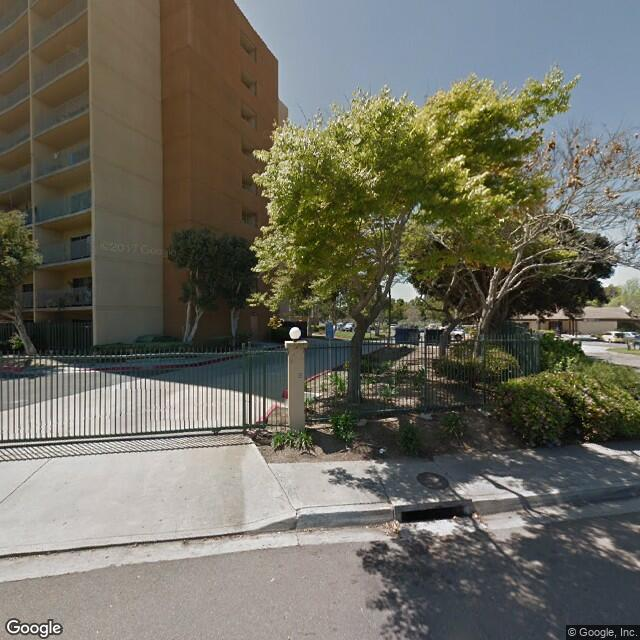litter: (367, 441, 404, 463)
